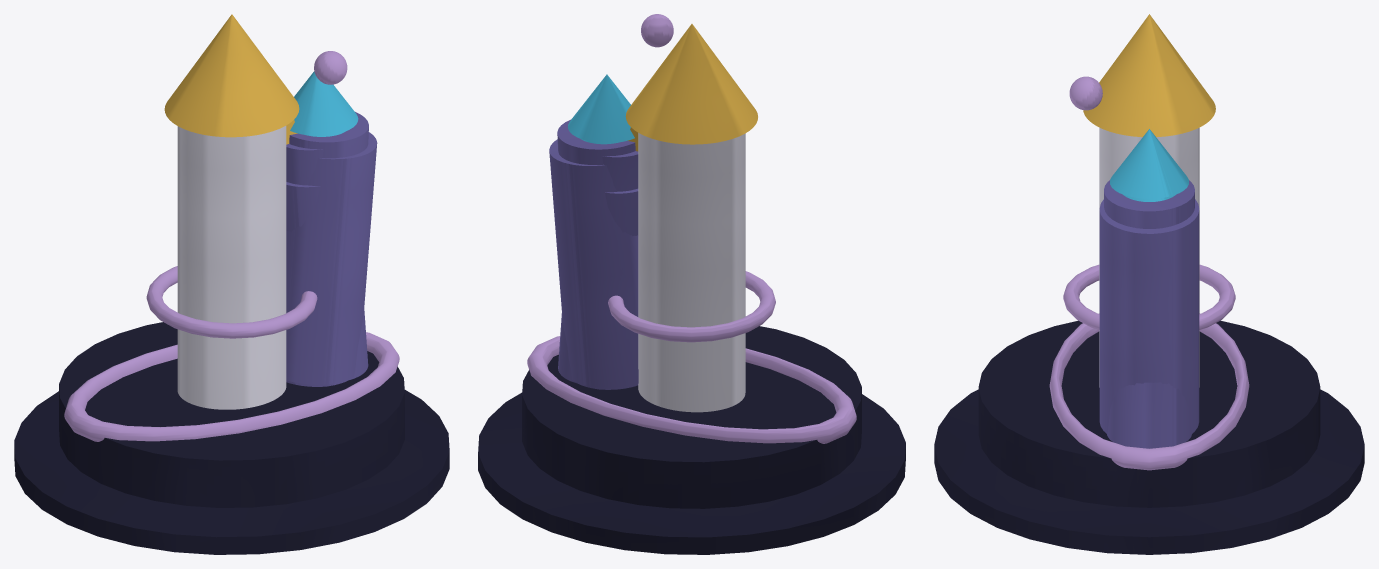
Rendered from 0658_史前人类图鉴_西托夫茨手斧.glb.
3 renders of one model, left to right at view 1: azimuth 30°, elevation 25°; view 2: azimuth 150°, elevation 25°; view 3: azimuth 270°, elevation 25°, orthographic.
Parts seen in each view (by area): view 1: card_0658; view 2: card_0658; view 3: card_0658.
Boxes of the visible parts, x1,y1,x2,y2 form: card_0658: [14, 14, 449, 554]; card_0658: [478, 14, 905, 554]; card_0658: [934, 14, 1364, 554].
Size of the model in its own units: 0.8832 by 1 by 0.8698.
